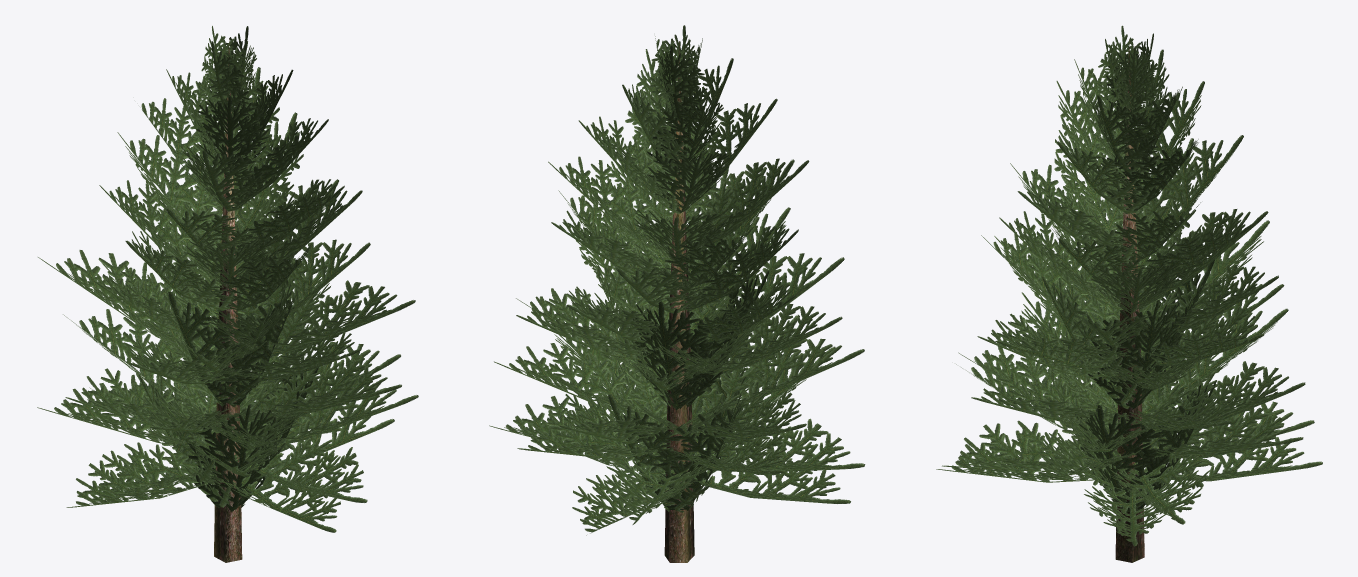
The model's file is arbol.obj.
3 renders of one model, left to right at view 1: azimuth 30°, elevation 25°; view 2: azimuth 150°, elevation 25°; view 3: azimuth 270°, elevation 25°, orthographic.
Visible parts, largest first — view 1: arbol:Mesh; view 2: arbol:Mesh; view 3: arbol:Mesh.
Part boxes in pixels (left/top/right/bottom): arbol:Mesh: left=37, top=26, right=418, bottom=562; arbol:Mesh: left=489, top=25, right=865, bottom=562; arbol:Mesh: left=936, top=25, right=1322, bottom=562.
Size of the model in its own units: 1.95 by 2.67 by 1.95.
